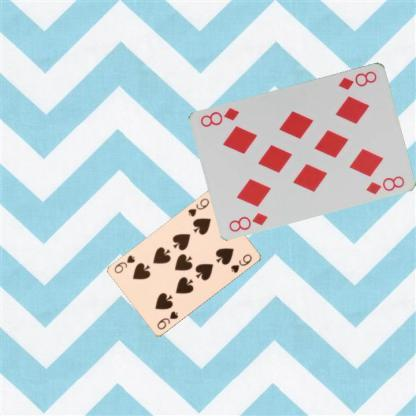8d: (336, 67, 378, 92), (226, 210, 270, 233)
9s: (154, 309, 180, 332), (186, 196, 210, 218)
